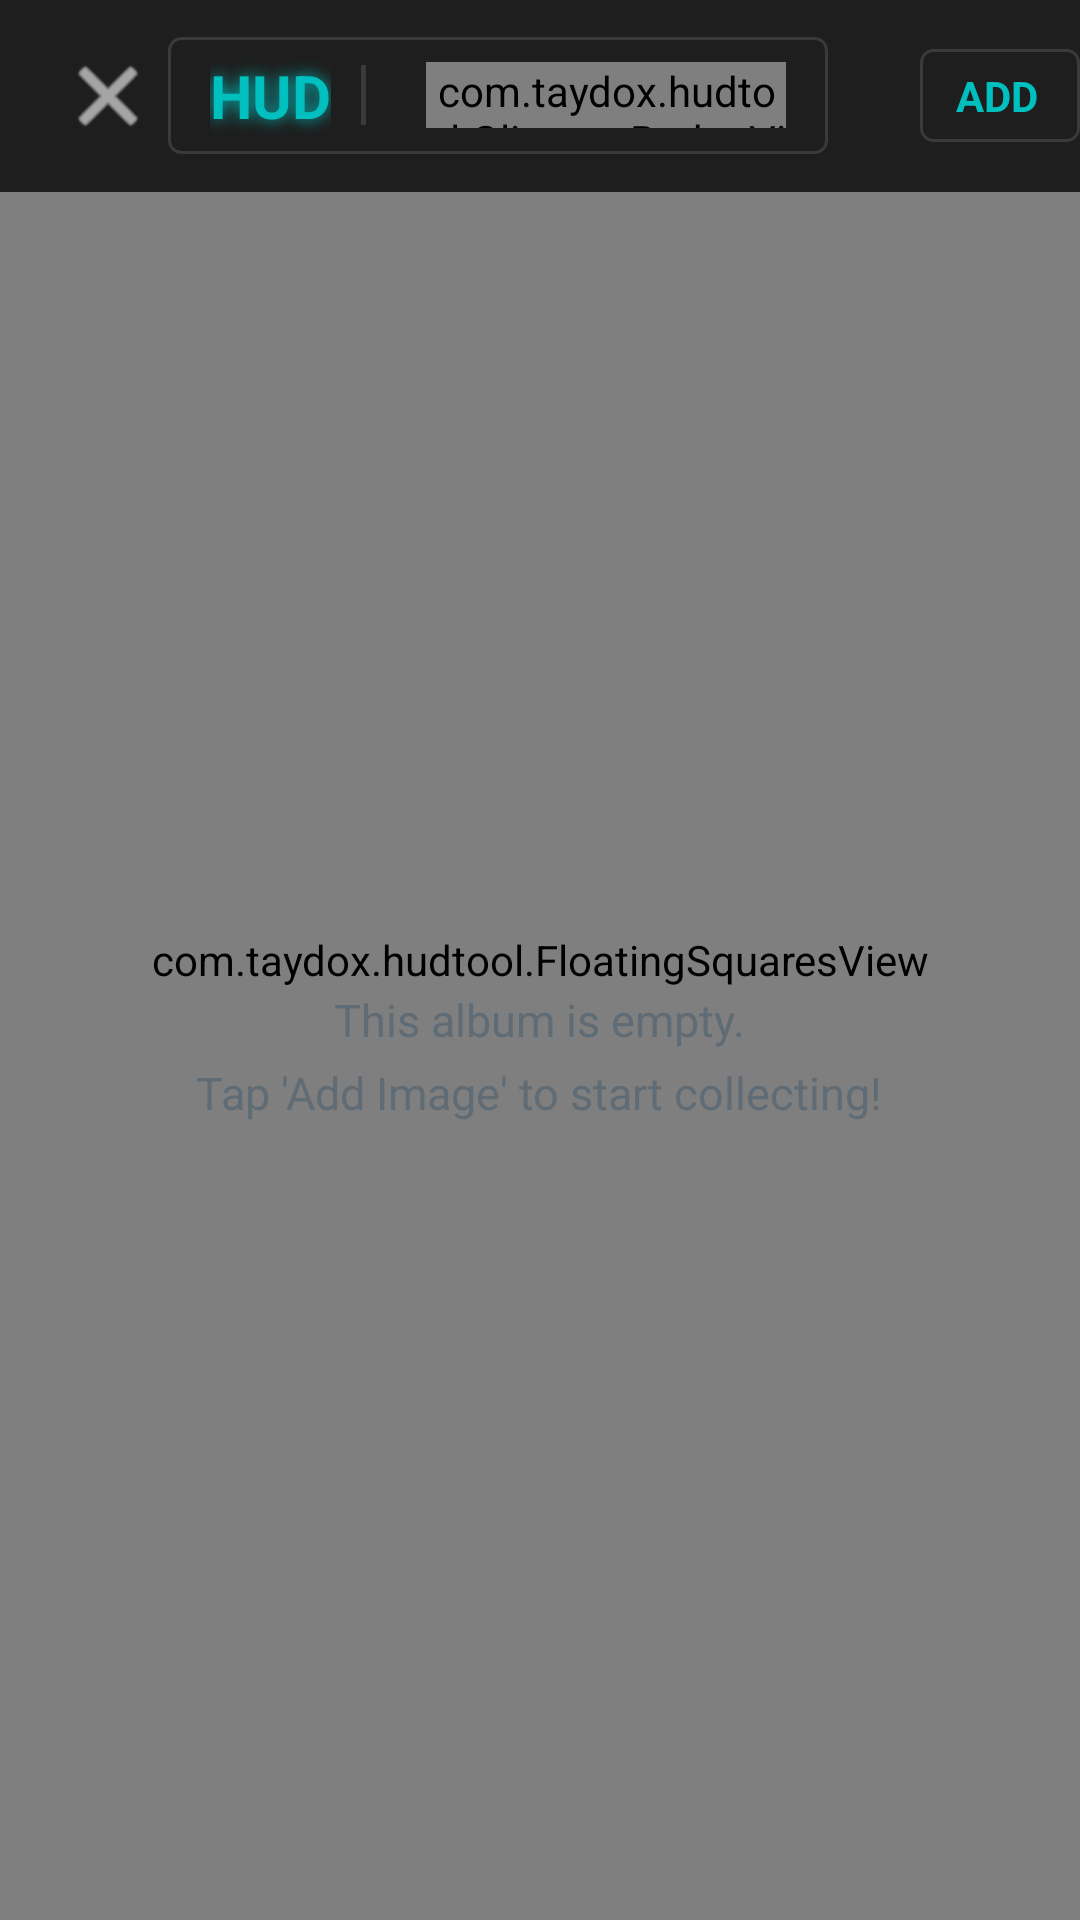

Where to tap for icons on this 1080 × 1920 app screen, as point (x, y):
close clear cancel: point (108, 96)
